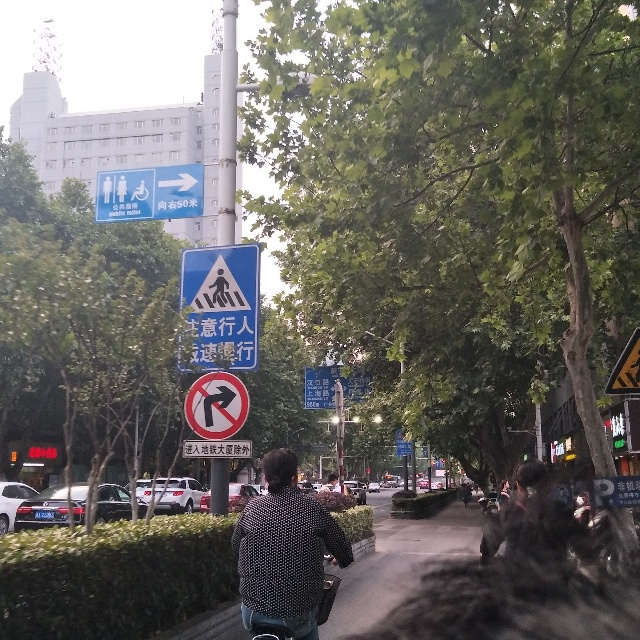crosswalk: (179, 252, 257, 314)
